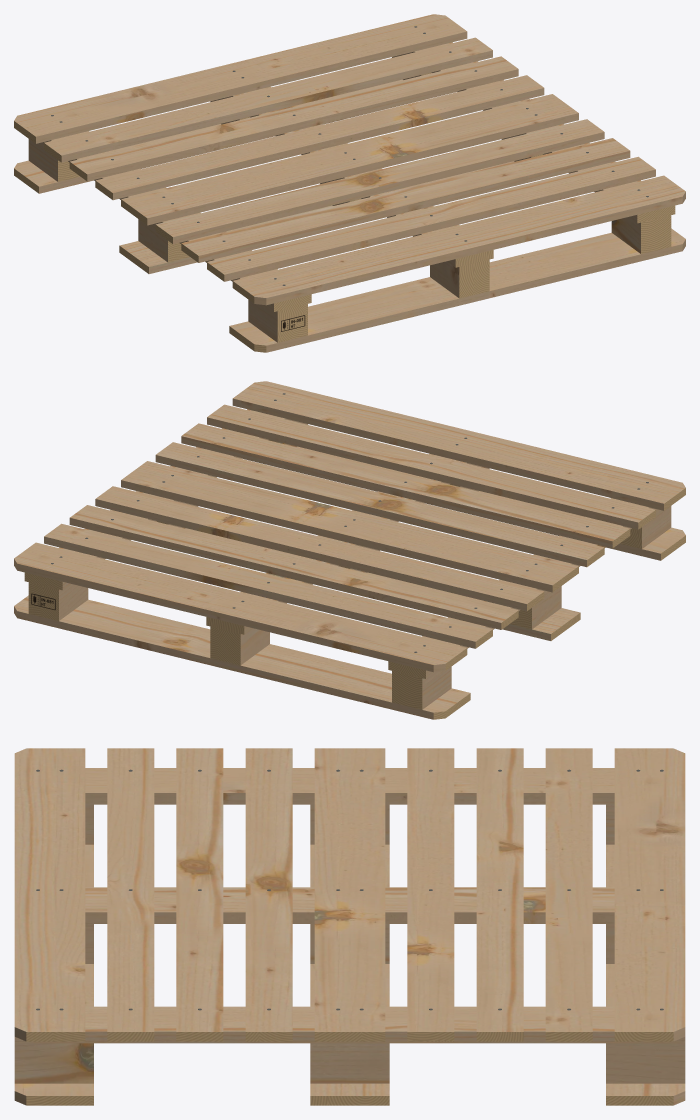
Rendered from cp3-type-pallet-1140x1140.glb.
3 views of the same model, one above another, from view 1: azimuth 30°, elevation 25°; view 2: azimuth 150°, elevation 25°; view 3: azimuth 270°, elevation 25° (orthographic). The views are drawn at different scales.
Parts seen in each view (by area): view 1: cp3-type-pallet-1140x1140; view 2: cp3-type-pallet-1140x1140; view 3: cp3-type-pallet-1140x1140.
Part boxes in pixels (left/top/right/bottom): cp3-type-pallet-1140x1140: left=14, top=14, right=685, bottom=352; cp3-type-pallet-1140x1140: left=14, top=381, right=685, bottom=719; cp3-type-pallet-1140x1140: left=14, top=748, right=685, bottom=1105.
Size of the model in its own units: 1.14 by 0.139 by 1.14.
Materials: 4 (3 with a texture image).
